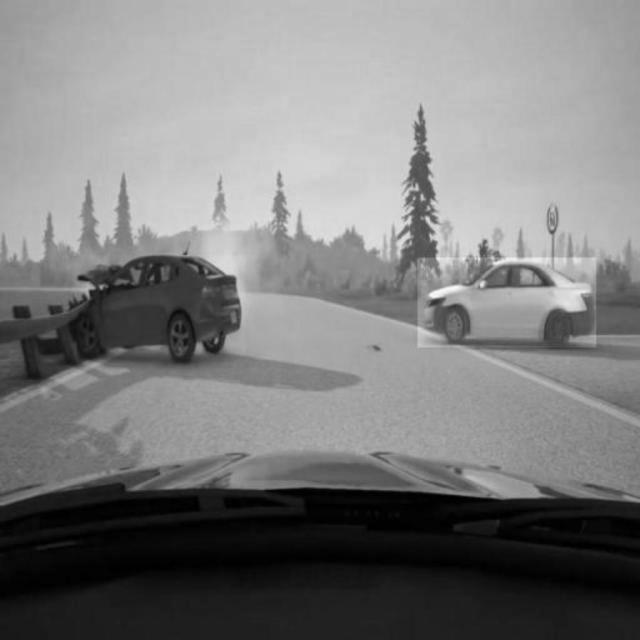accident: (73, 255, 245, 366)
vehicle: (418, 258, 596, 348)
